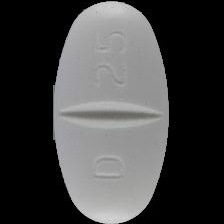65862-524: (0, 0, 224, 224)
